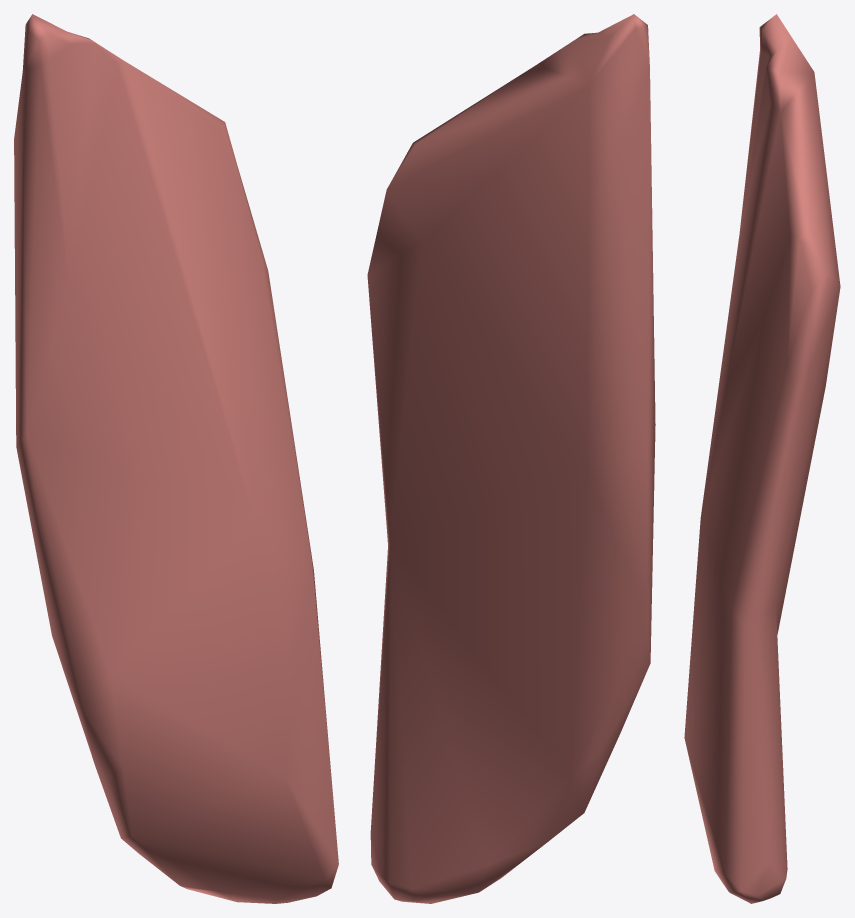
Rendered from fma81546_mm1323.glb.
3 views of the same model, side by side, from view 1: azimuth 30°, elevation 25°; view 2: azimuth 150°, elevation 25°; view 3: azimuth 270°, elevation 25° (orthographic). The views are drawn at different scales.
Parts seen in each view (by area): view 1: FMA81546_MM1323; view 2: FMA81546_MM1323; view 3: FMA81546_MM1323.
Part boxes in pixels (left/top/right/bottom): FMA81546_MM1323: left=14, top=14, right=338, bottom=903; FMA81546_MM1323: left=367, top=14, right=655, bottom=903; FMA81546_MM1323: left=684, top=14, right=840, bottom=903.
Bounding box in the file's own units: 0.00525 × 0.0161 × 0.00289.
